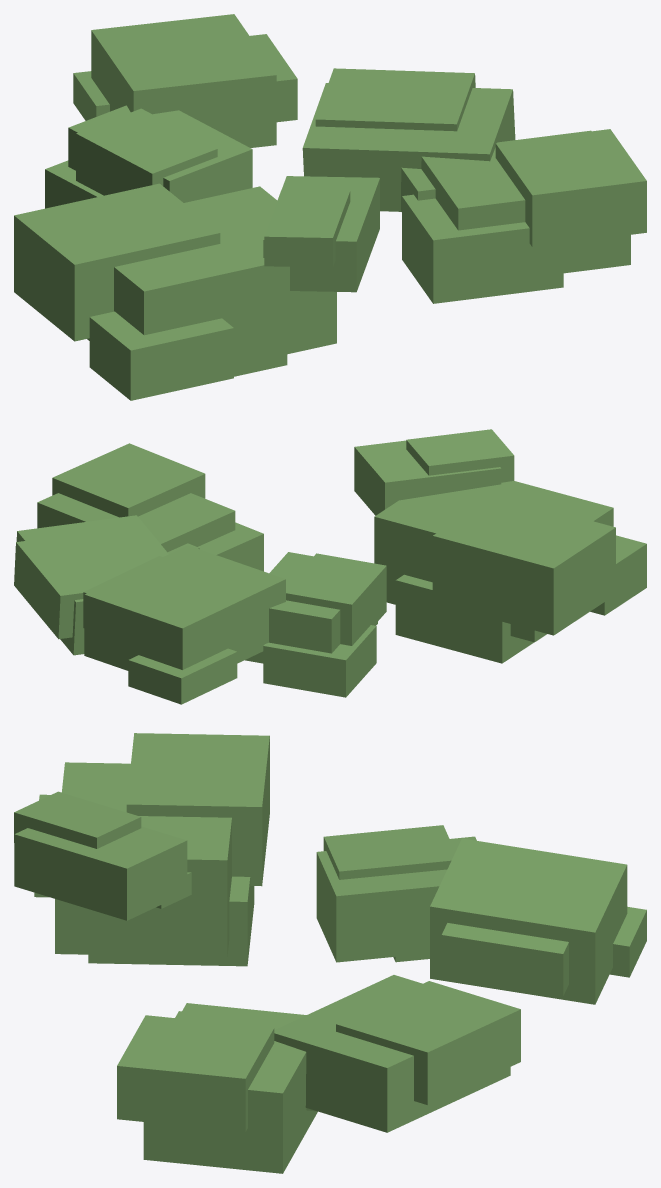
File: SM_GiantTree_LOD_Leaf.fbx
3 renders of one model, top to bottom at view 1: azimuth 30°, elevation 25°; view 2: azimuth 150°, elevation 25°; view 3: azimuth 270°, elevation 25°, orthographic. The views are drawn at different scales.
Visible parts, largest first — view 1: SM_LOD_LeafGiant; view 2: SM_LOD_LeafGiant; view 3: SM_LOD_LeafGiant.
Boxes of the visible parts, box(x1,y1,x2,y2) form: SM_LOD_LeafGiant: box(14, 14, 646, 400); SM_LOD_LeafGiant: box(14, 429, 646, 704); SM_LOD_LeafGiant: box(14, 733, 646, 1173).
Bounding box in the file's own units: 3873 × 1079 × 3493.
